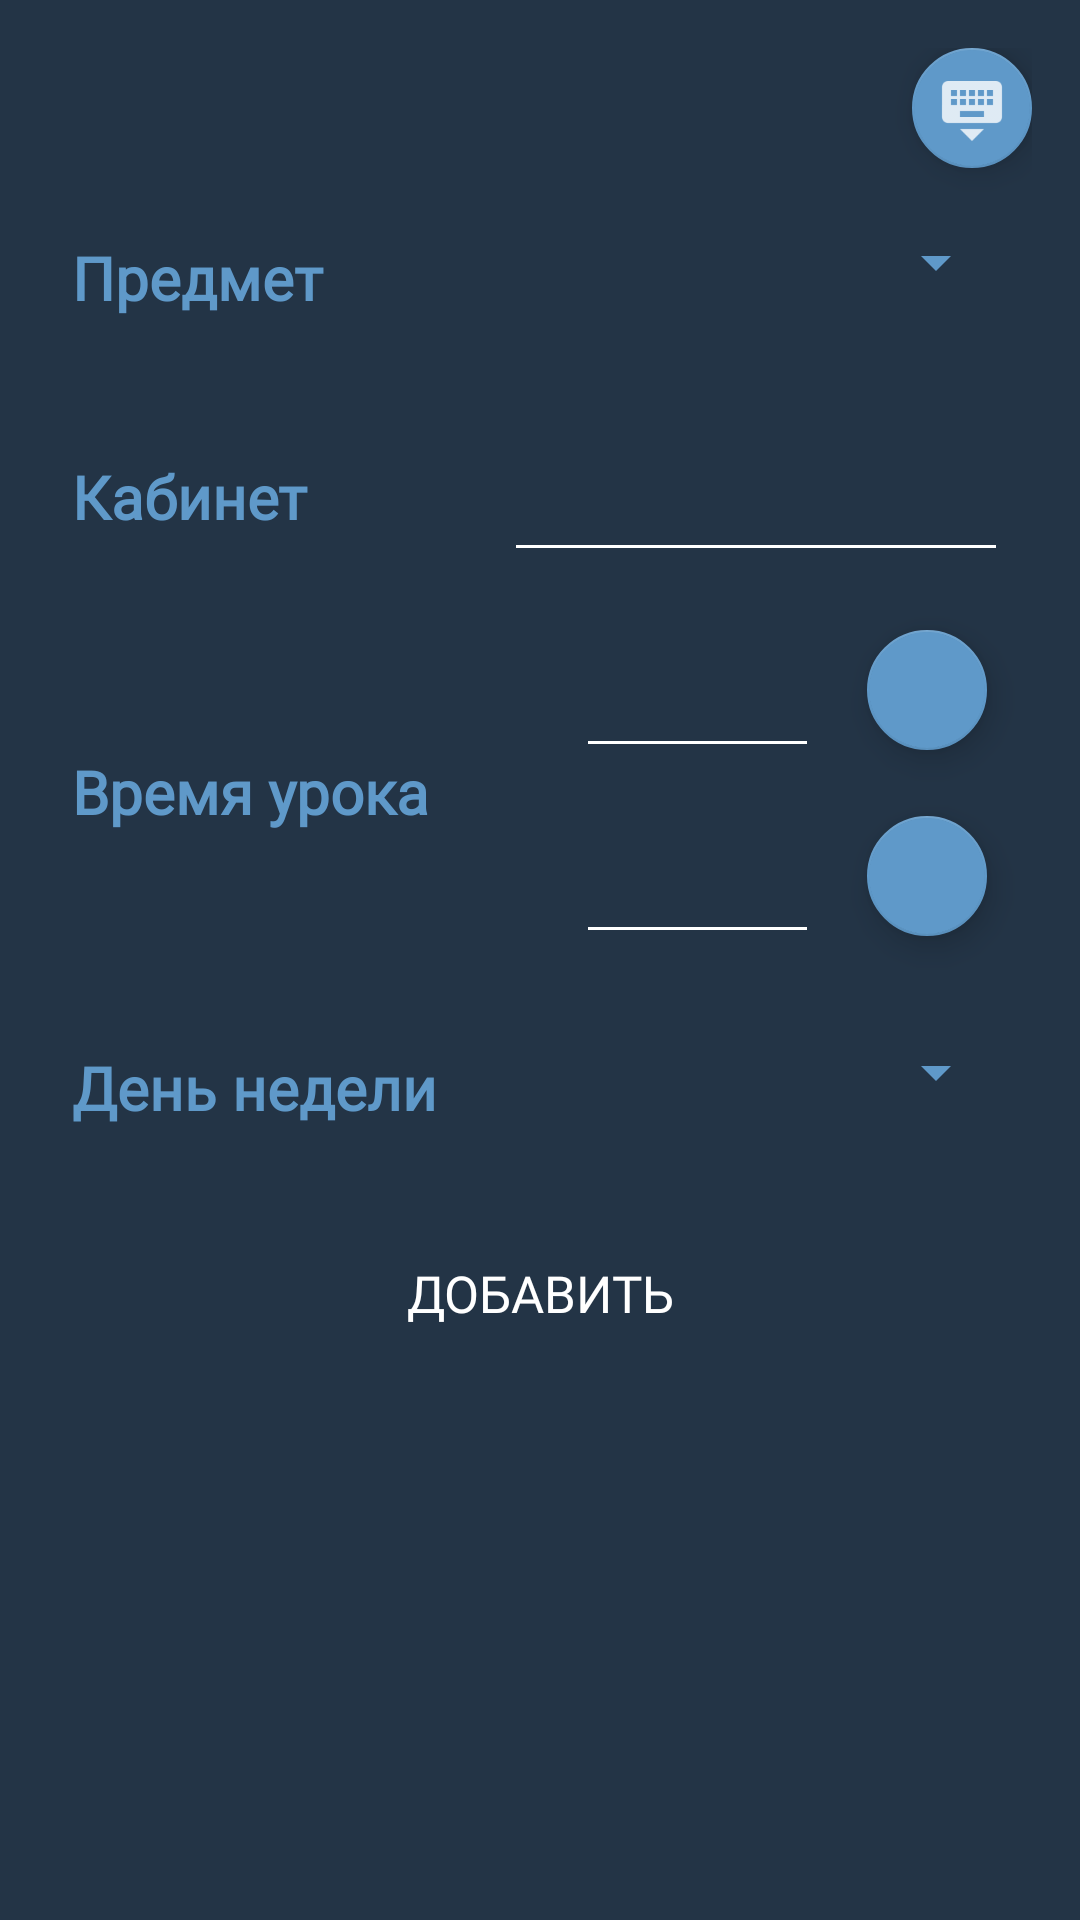

Icon bounding boxes for this 1080px×1920px phone screenshot, format [x1=x1, y1=y1, x2=x2, y2=y2]:
keyboard: [x1=912, y1=48, x2=1032, y2=168]
